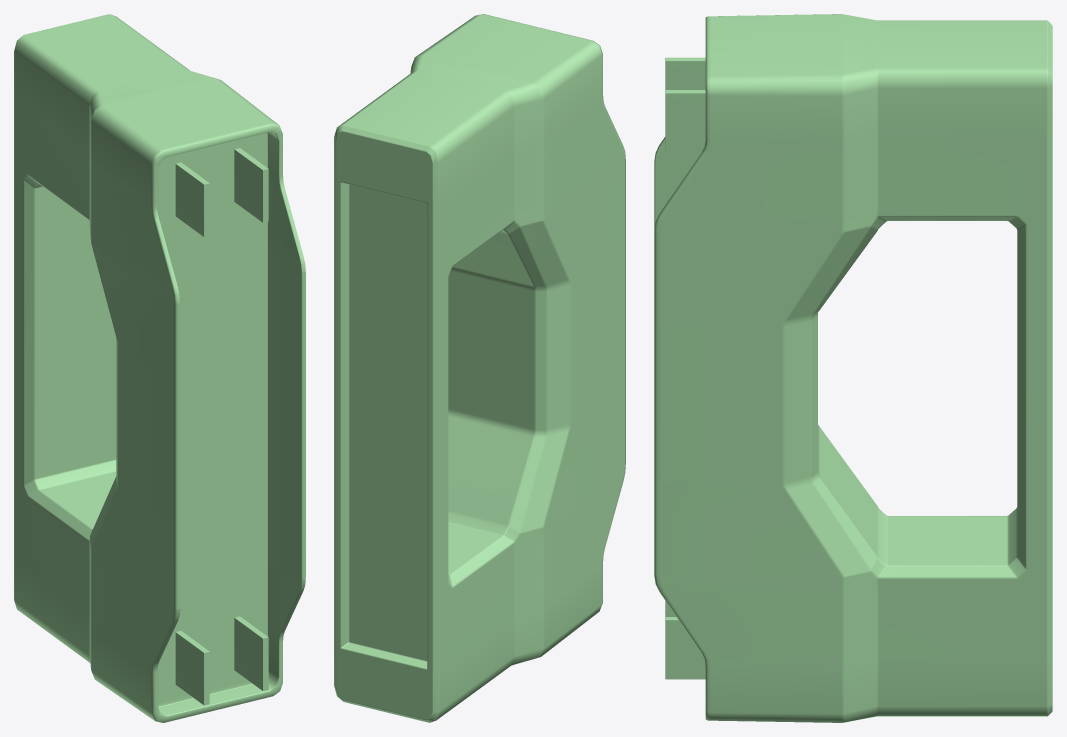
Rendered from Fuse_inv.fbx.
3 renders of one model, left to right at view 1: azimuth 30°, elevation 25°; view 2: azimuth 150°, elevation 25°; view 3: azimuth 270°, elevation 25°, orthographic. The views are drawn at different scales.
Parts seen in each view (by area): view 1: Fuse_geo; view 2: Fuse_geo; view 3: Fuse_geo.
Part boxes in pixels (bbox=[...]): Fuse_geo: bbox=[14, 14, 305, 722]; Fuse_geo: bbox=[334, 14, 625, 722]; Fuse_geo: bbox=[654, 14, 1052, 722].
Bounding box in the file's own units: 17.64 × 72.91 × 40.55.
